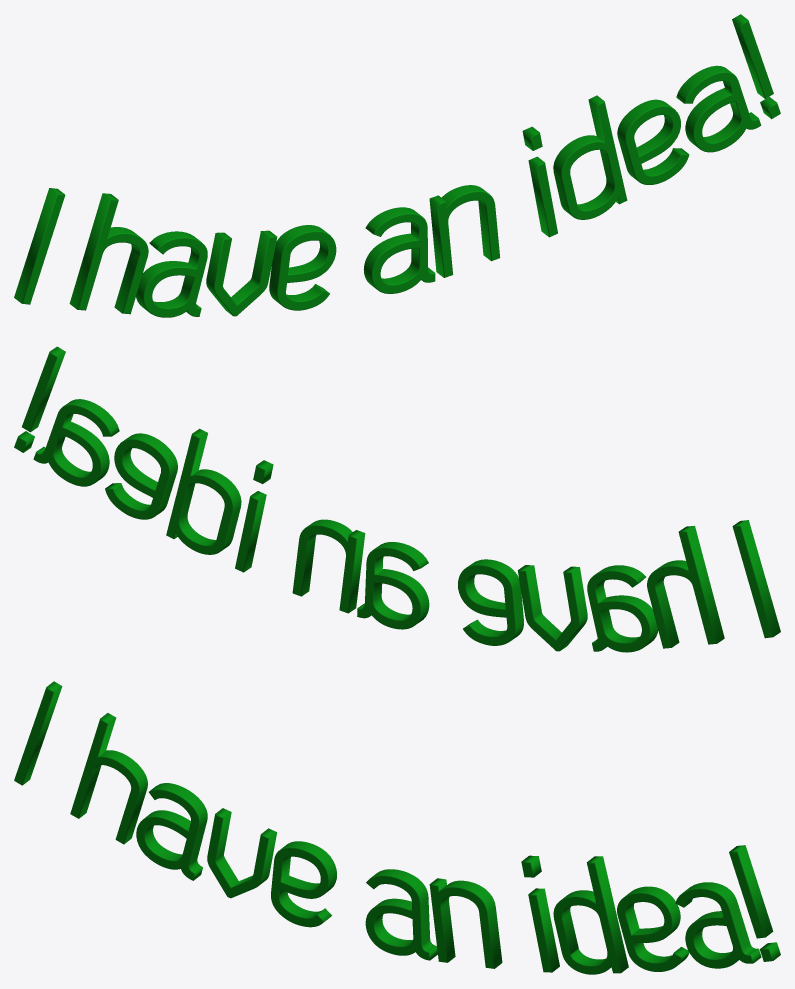
File: positive_text.obj
3 views of the same model, one above another, from view 1: azimuth 30°, elevation 25°; view 2: azimuth 150°, elevation 25°; view 3: azimuth 330°, elevation 25° (orthographic).
Visible parts, largest first — view 1: Text; view 2: Text; view 3: Text.
Part boxes in pixels (x1,y1,x2,y2): Text: (14,14,780,317); Text: (14,346,780,652); Text: (14,681,780,974).
Size of the model in its own units: 9.33 by 2.24 by 0.24.
